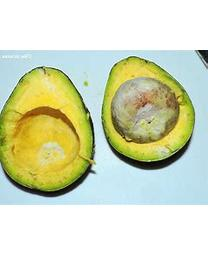avocado: (0, 66, 97, 197), (101, 56, 196, 168)
